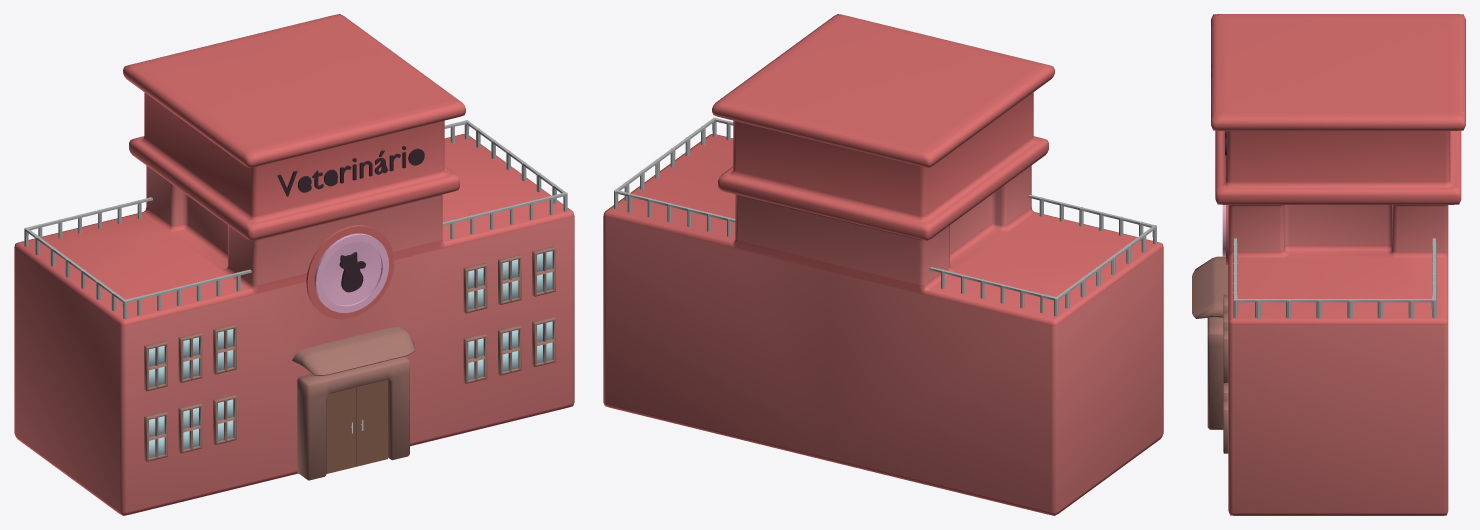
File: Veterinario.fbx
The picture shows the model from 3 angles, left to right: view 1: azimuth 30°, elevation 25°; view 2: azimuth 150°, elevation 25°; view 3: azimuth 270°, elevation 25°; orthographic projection.
Visible parts, largest first — view 1: Estrutura, Entrada, janelaFrontal, Vidros, Corrimao, Porta, Circle, Circle.002, Text, BézierCurve; view 2: Estrutura, Corrimao; view 3: Estrutura, Entrada, Corrimao, janelaFrontal.
Part boxes in pixels (x1,y1,x2,y2): Estrutura: (14, 14, 574, 515); Entrada: (292, 326, 415, 480); janelaFrontal: (144, 246, 555, 461); Vidros: (149, 251, 552, 457); Corrimao: (24, 120, 567, 318); Porta: (326, 380, 387, 473); Circle: (314, 233, 388, 313); Circle.002: (306, 225, 394, 319); Text: (277, 146, 424, 196); BézierCurve: (339, 252, 365, 292); Estrutura: (603, 14, 1163, 515); Corrimao: (614, 117, 1156, 316); Estrutura: (1211, 14, 1465, 515); Entrada: (1192, 256, 1228, 429); Corrimao: (1233, 238, 1436, 318); janelaFrontal: (1223, 294, 1228, 453).
Size of the model in its own units: 6996 by 5002 by 3635.
